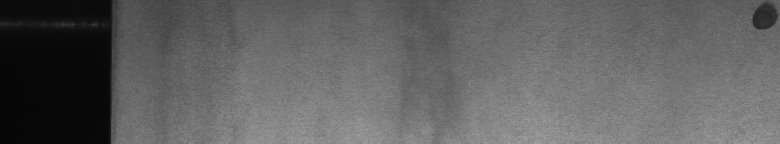fi: (741, 4, 776, 36)
